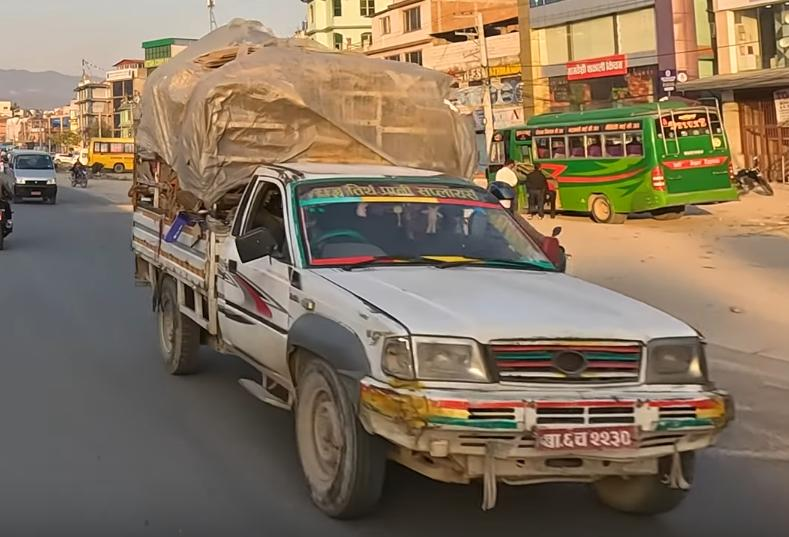bike: (734, 148, 780, 207), (65, 155, 93, 194)
bus: (474, 93, 738, 225), (83, 132, 157, 176)
transport_vehicle: (121, 19, 739, 526)
van: (0, 138, 68, 213)
